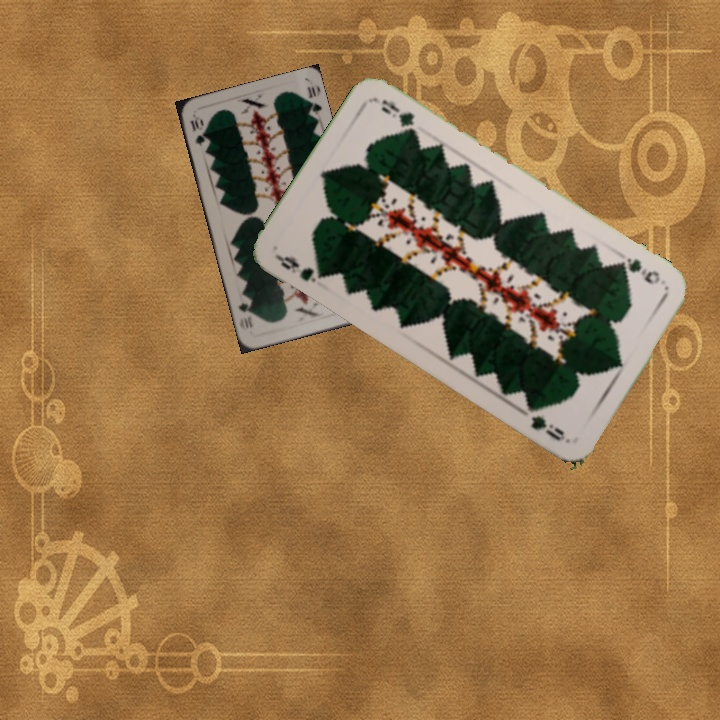G10: (186, 112, 208, 150)
G9: (272, 250, 331, 286), (613, 253, 663, 287)
